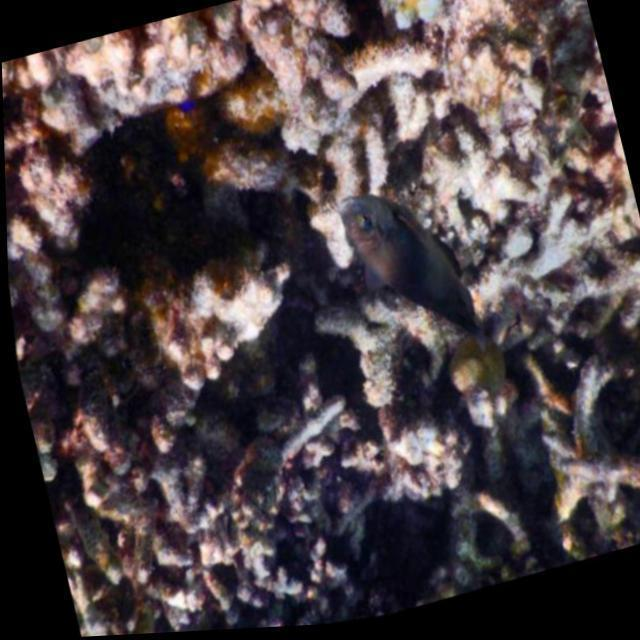Dead Coral: (242, 0, 640, 409), (22, 339, 393, 640), (4, 152, 327, 446), (470, 379, 640, 586)
